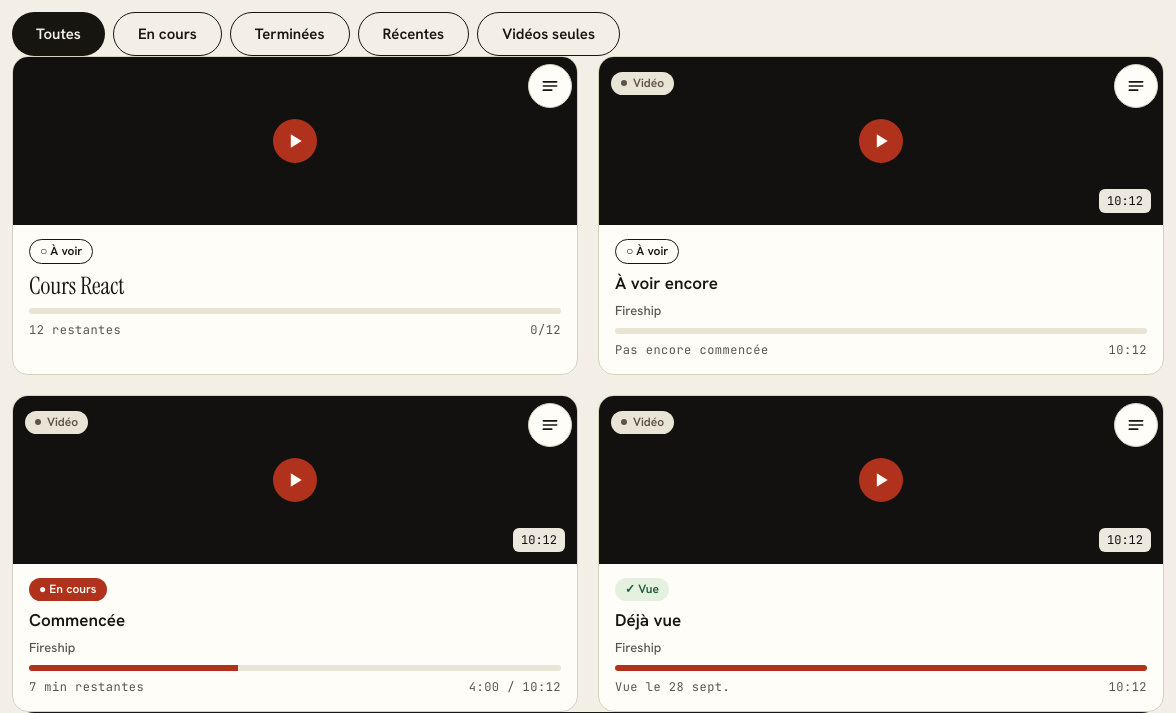
Test: PlaylistLibrary › videos kept on their own (YC-61) › « Vidéos seules » shows them alone; « En cours » and « Terminées » sort them too
Expected: the text "À voir encore" is shown, x1=615 y1=272 x2=718 y2=294
Step 1. Click the button "Vidéos seules" → (549, 34), box x1=477 y1=12 x2=620 y2=56
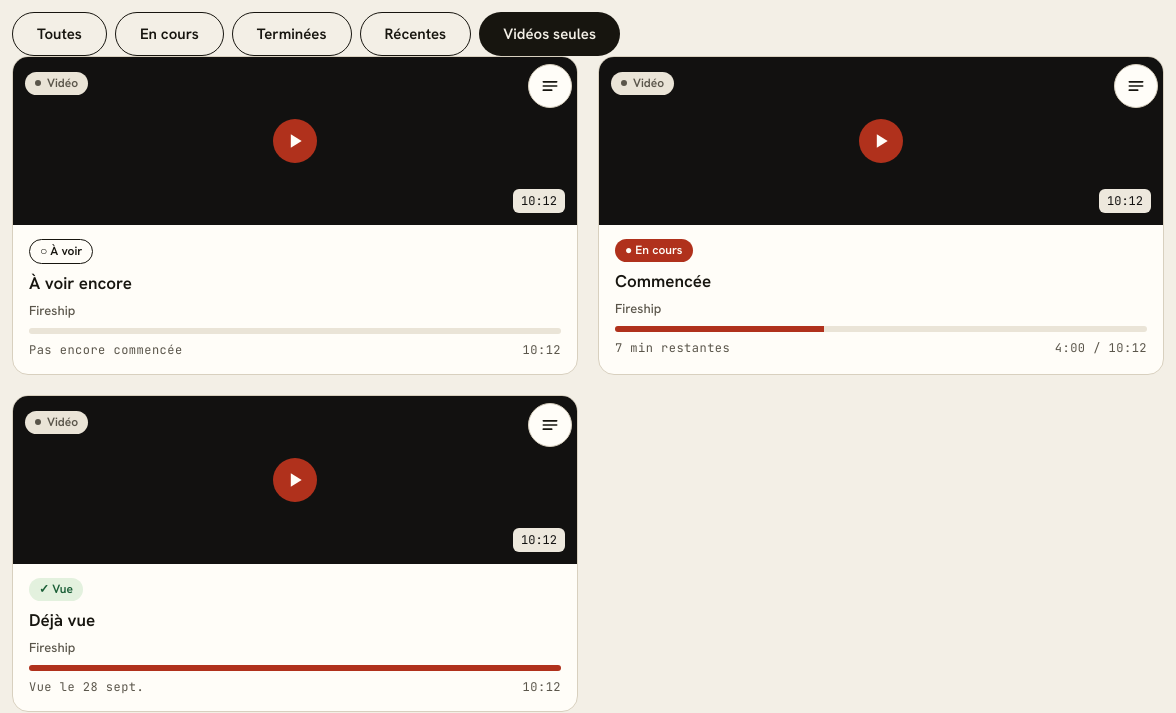
Expected: the text "À voir encore" is shown, x1=29 y1=272 x2=132 y2=294
Expected: the link "Cours React" is gone
Step 2. Click the button "En cours" → (169, 34), box x1=115 y1=12 x2=224 y2=56
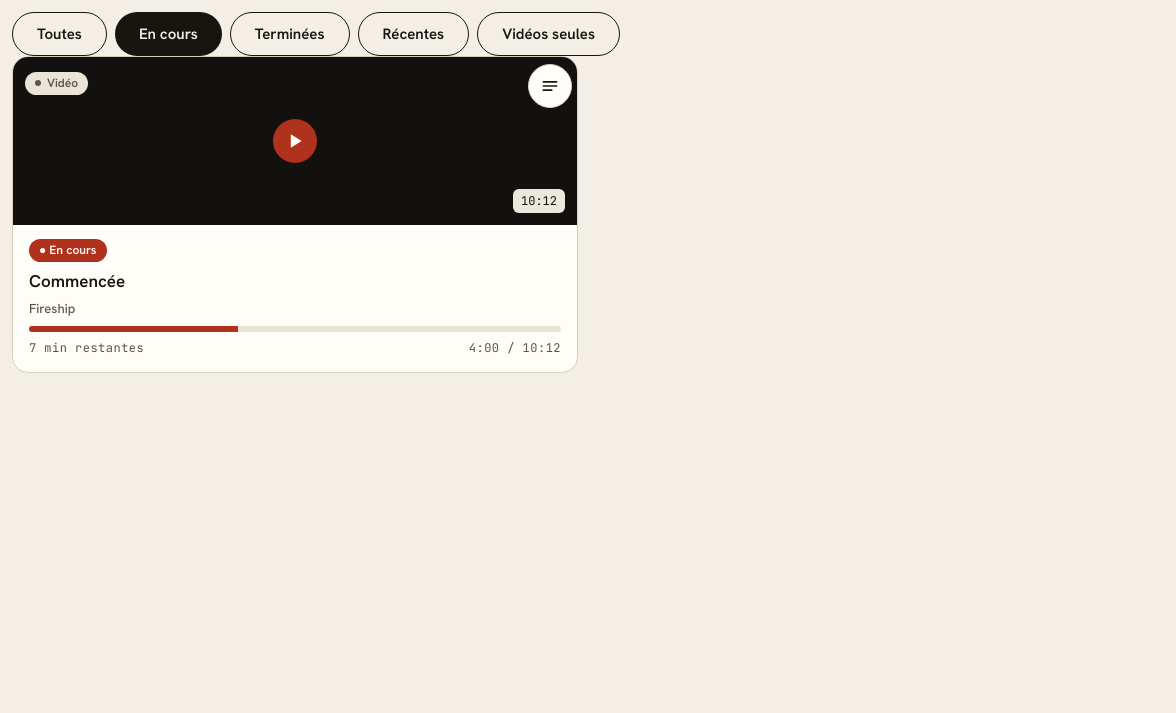
Expected: the text "Commencée" is shown, x1=29 y1=270 x2=125 y2=292
Expected: the link "À voir encore" is gone
Expected: the link "Déjà vue" is gone
Step 3. Click the button "Terminées" → (290, 34), box x1=230 y1=12 x2=350 y2=56
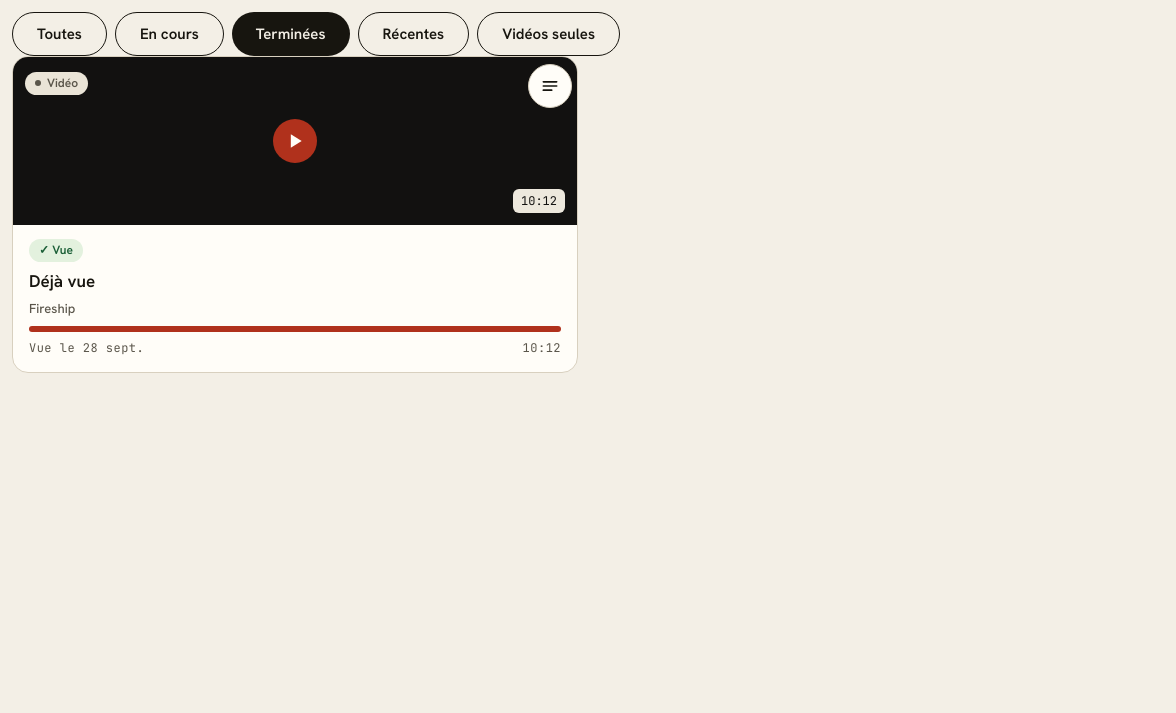
Expected: the text "Déjà vue" is shown, x1=29 y1=270 x2=95 y2=292
Expected: the link "Commencée" is gone
